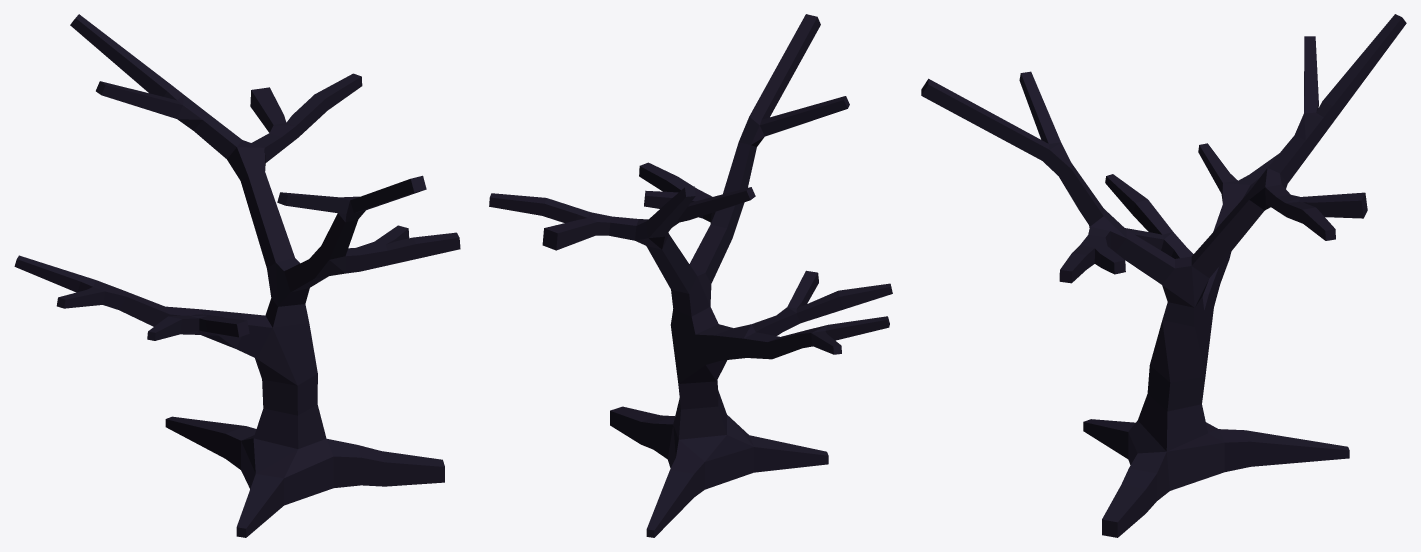
File: Tree_Dead_03.fbx
3 renders of one model, left to right at view 1: azimuth 30°, elevation 25°; view 2: azimuth 150°, elevation 25°; view 3: azimuth 270°, elevation 25°, orthographic. The views are drawn at different scales.
Parts seen in each view (by area): view 1: Tree_Dead_03; view 2: Tree_Dead_03; view 3: Tree_Dead_03.
Part boxes in pixels (left/top/right/bottom): Tree_Dead_03: left=14, top=14, right=460, bottom=537; Tree_Dead_03: left=489, top=14, right=892, bottom=537; Tree_Dead_03: left=921, top=14, right=1406, bottom=537.
Size of the model in its own units: 290 by 312 by 333.
